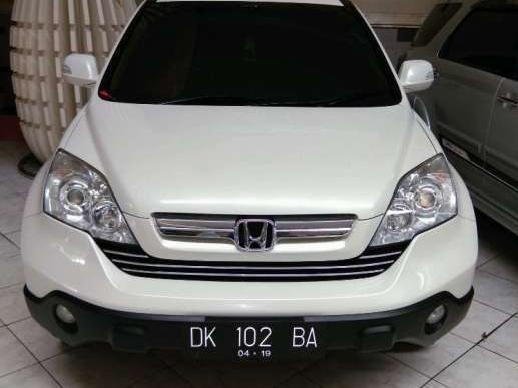plate: (187, 322, 331, 360)
